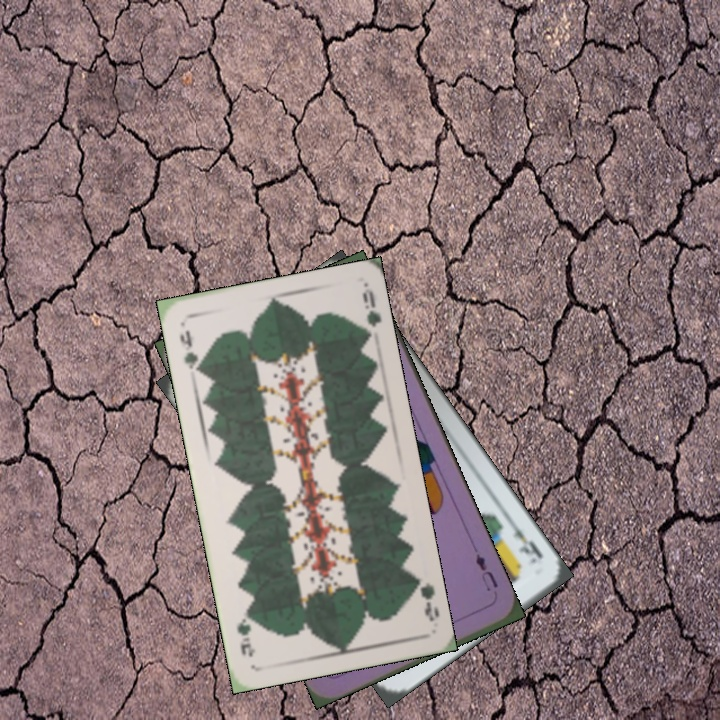EK: (504, 515, 545, 567)
EU: (471, 549, 501, 594)
G9: (408, 571, 442, 624), (175, 326, 205, 377)
